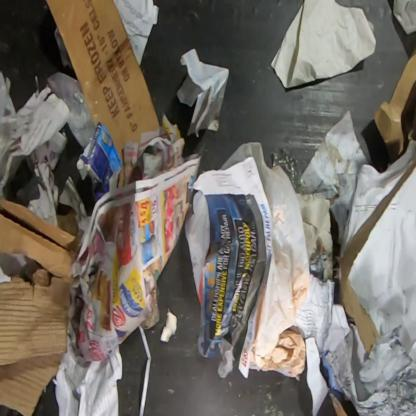cardboard: (45, 0, 160, 166), (0, 195, 78, 416), (338, 159, 415, 357), (374, 42, 416, 164), (76, 121, 124, 204)
rigid_plastic: (272, 148, 309, 195)
soft_plastic: (220, 142, 310, 357), (44, 71, 96, 149), (184, 191, 210, 296)
